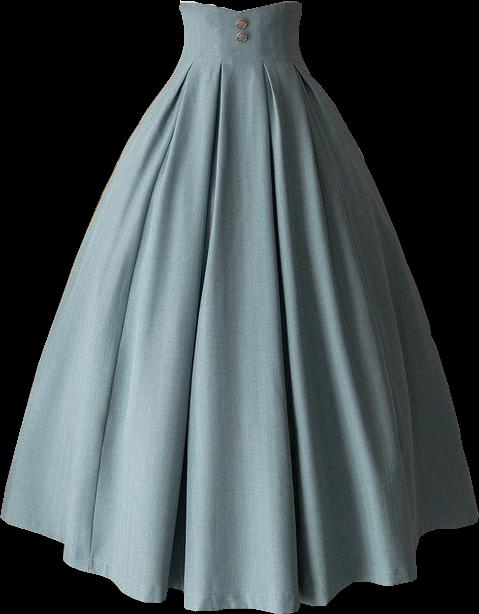Hemline: (0, 513, 478, 613)
Waistline: (175, 0, 301, 14)
